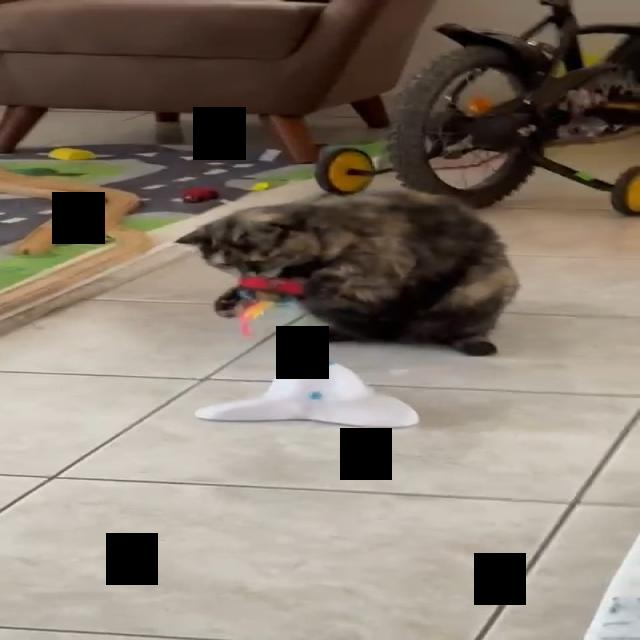authorized: (172, 188, 520, 356)
